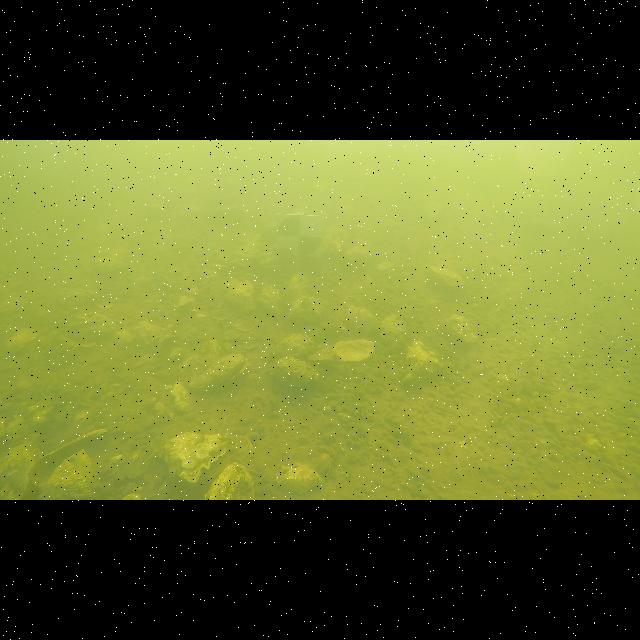Oyster-Closed: (166, 432, 229, 482), (39, 450, 98, 500), (184, 352, 247, 395), (0, 435, 42, 499), (177, 336, 223, 378), (205, 462, 255, 500), (402, 340, 441, 382), (69, 312, 116, 346), (276, 465, 324, 494), (275, 356, 319, 386), (428, 266, 465, 300), (441, 314, 479, 346), (289, 295, 324, 326), (275, 334, 318, 358), (134, 321, 172, 347), (224, 279, 254, 310), (345, 306, 380, 332), (380, 315, 406, 347), (94, 249, 126, 274), (259, 285, 281, 315), (8, 329, 38, 350), (288, 272, 309, 299)
Oyster-Open: (29, 429, 109, 484), (309, 339, 375, 361)
